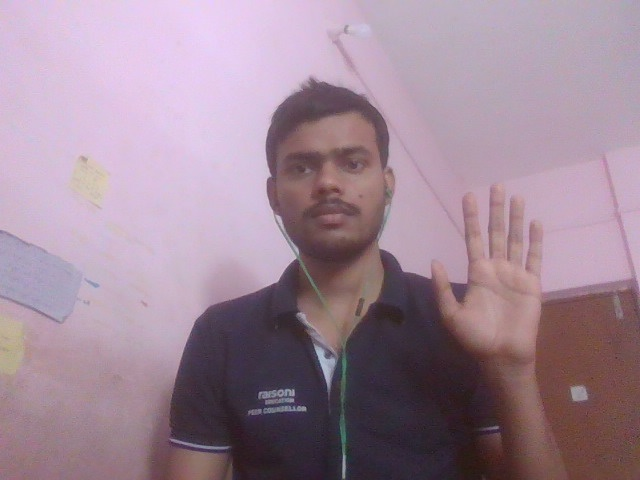Hello: (393, 148, 589, 394)
